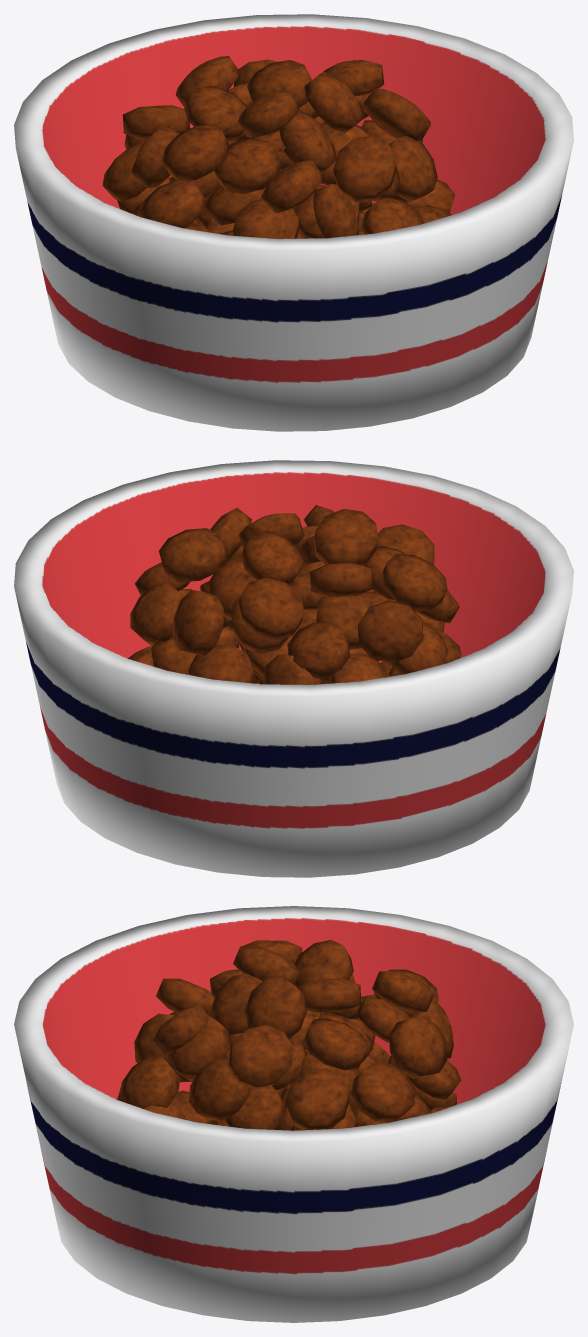
The model's file is BowlKibble.fbx.
3 views of the same model, one above another, from view 1: azimuth 30°, elevation 25°; view 2: azimuth 150°, elevation 25°; view 3: azimuth 270°, elevation 25° (orthographic).
Parts seen in each view (by area): view 1: Bowl, Kibble02; view 2: Bowl, Kibble02; view 3: Bowl, Kibble02.
Boxes of the visible parts, x1,y1,x2,y2 form: Bowl: [14, 14, 573, 431]; Kibble02: [102, 56, 454, 238]; Bowl: [14, 460, 573, 877]; Kibble02: [128, 505, 461, 684]; Bowl: [14, 906, 573, 1322]; Kibble02: [117, 939, 461, 1130].
Size of the model in its own units: 0.1182 by 0.1182 by 0.0601.
